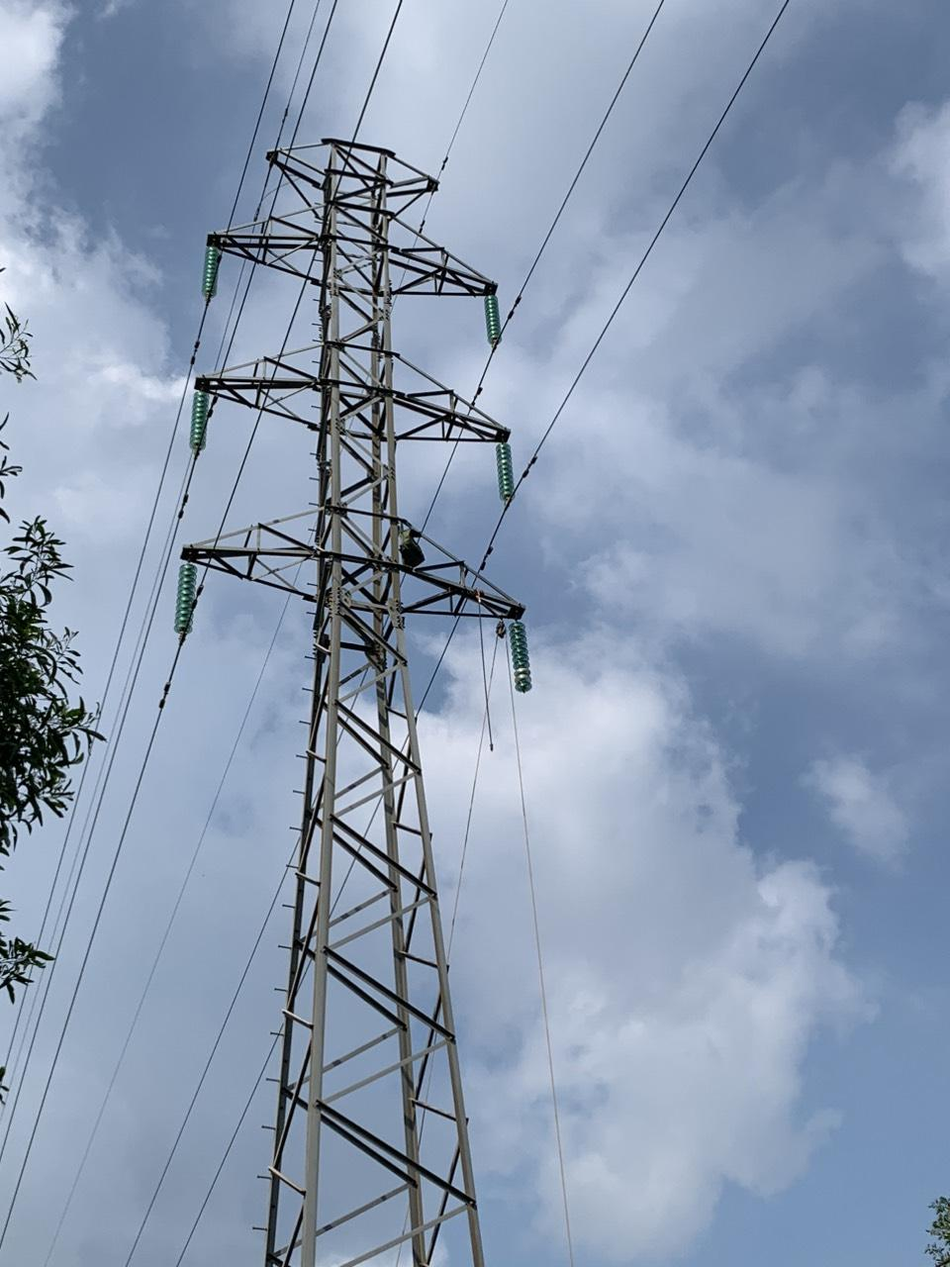tower: (165, 114, 538, 1267)
